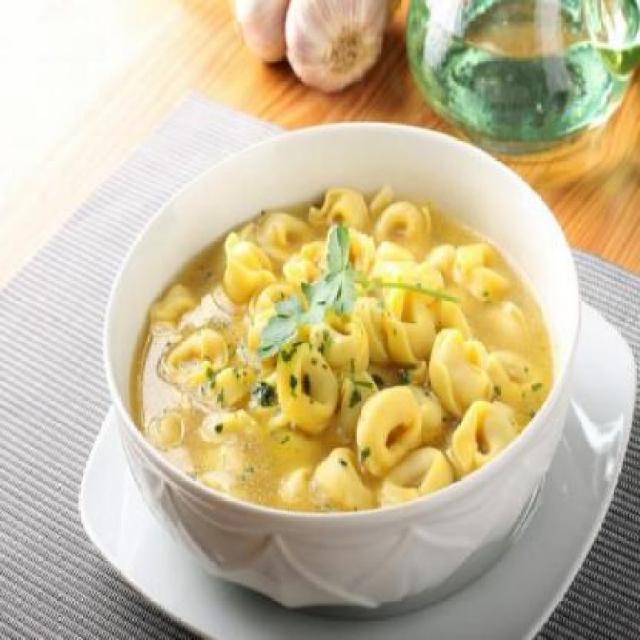Tortellini in broth: (138, 178, 550, 528)
